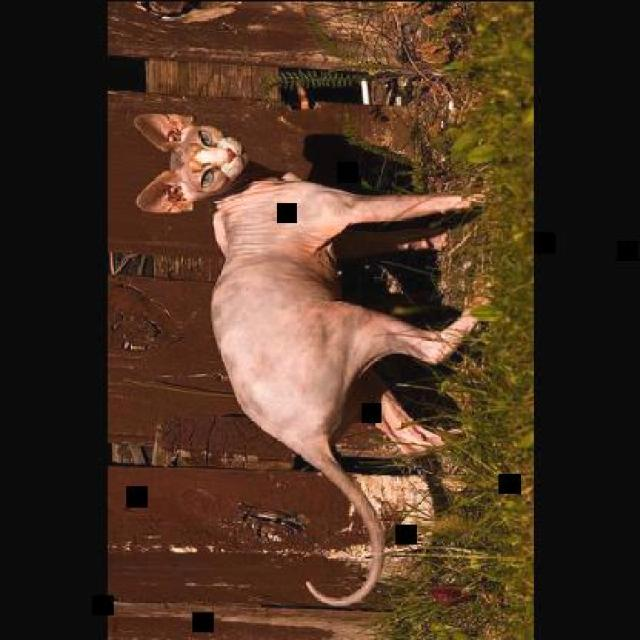unauthorized: (129, 109, 489, 608)
